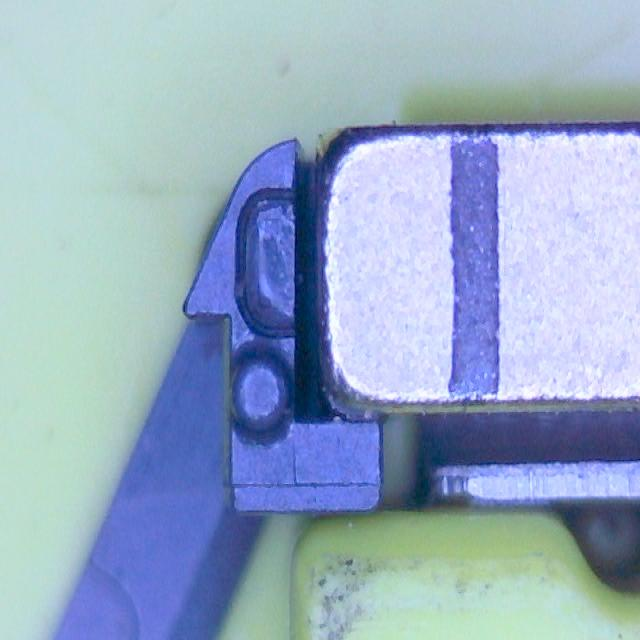lacking: (232, 186, 306, 340)
